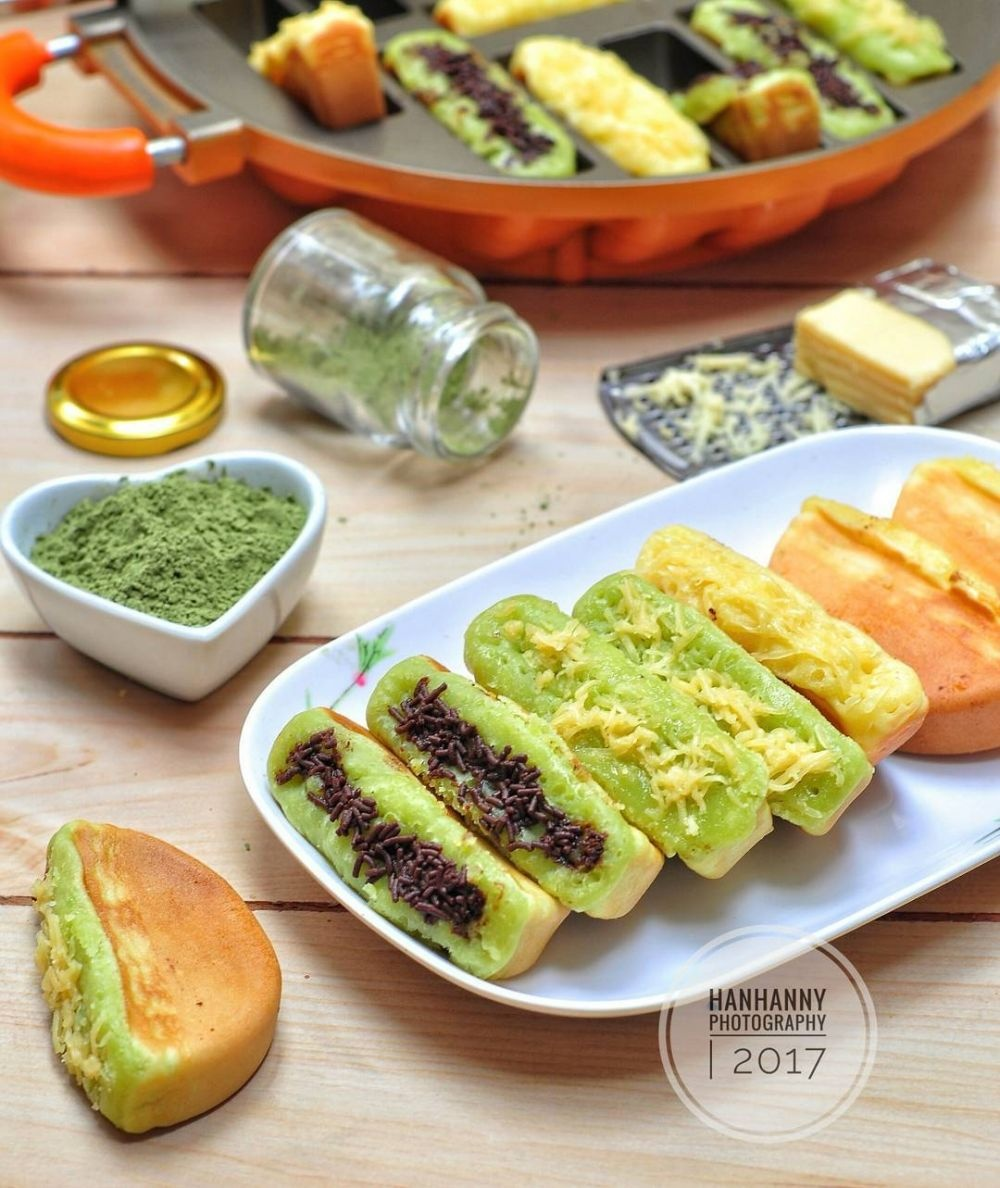pukis: (27, 818, 286, 1126)
